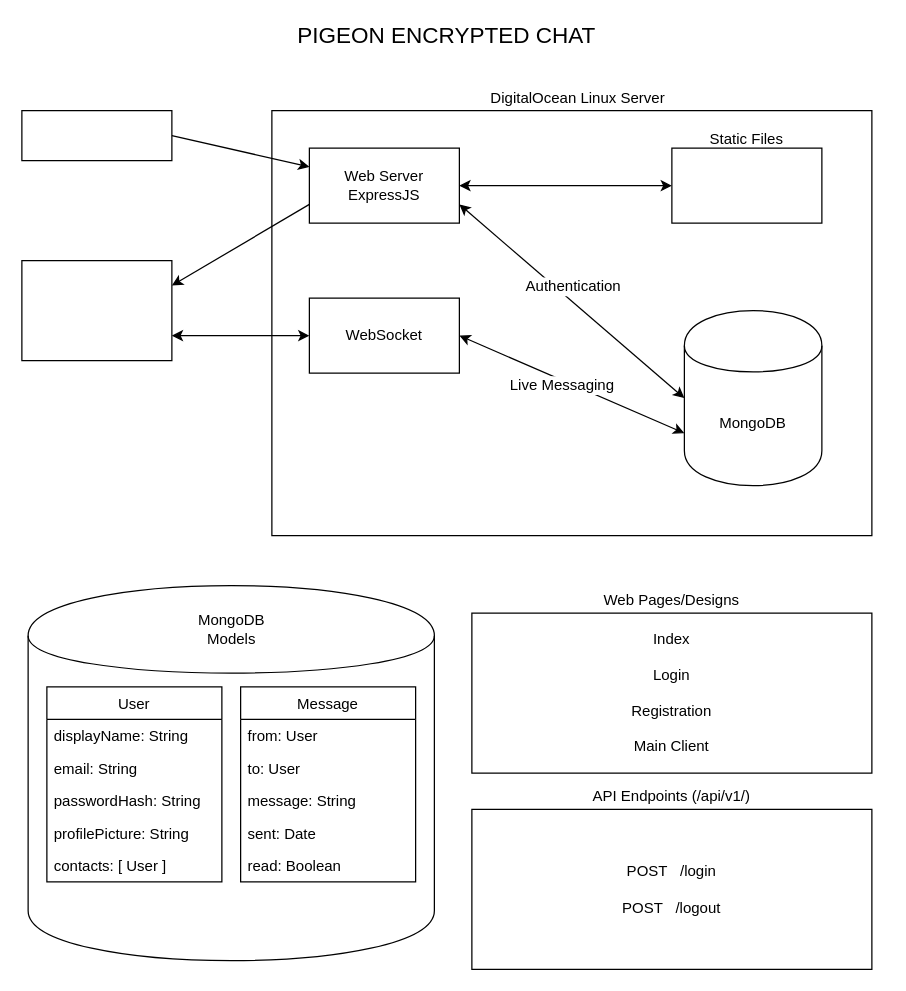
Image size: 906x991. Some labels were removed from this diagram. The shapes that lost their labels are listed below. From the top down, each one's box as (x1, y1, x2, y2) in pixels, then its label:
(21, 109, 172, 161): User Browser
(671, 147, 822, 223): index.html style.css client.js
(21, 259, 172, 361): Webpage/ Web client
